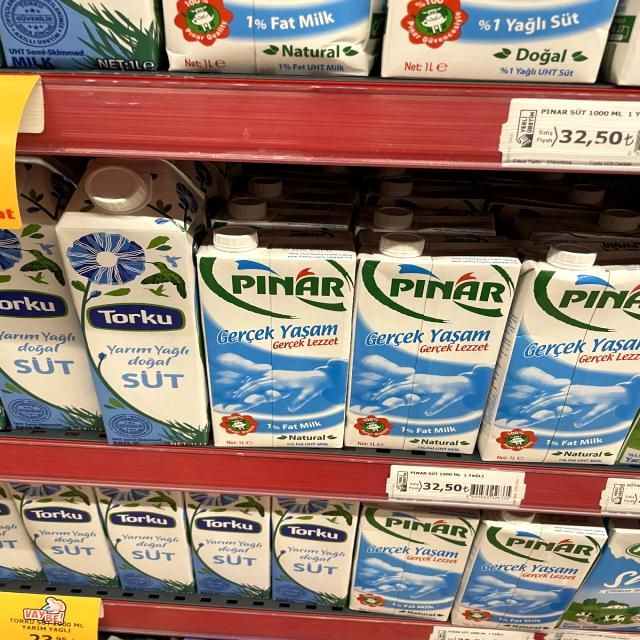milk: (53, 170, 208, 449), (199, 222, 345, 449), (356, 229, 503, 453), (502, 247, 640, 466), (465, 514, 587, 629), (12, 482, 113, 596), (101, 485, 192, 598), (366, 506, 454, 619), (274, 494, 350, 611), (196, 490, 269, 604)
